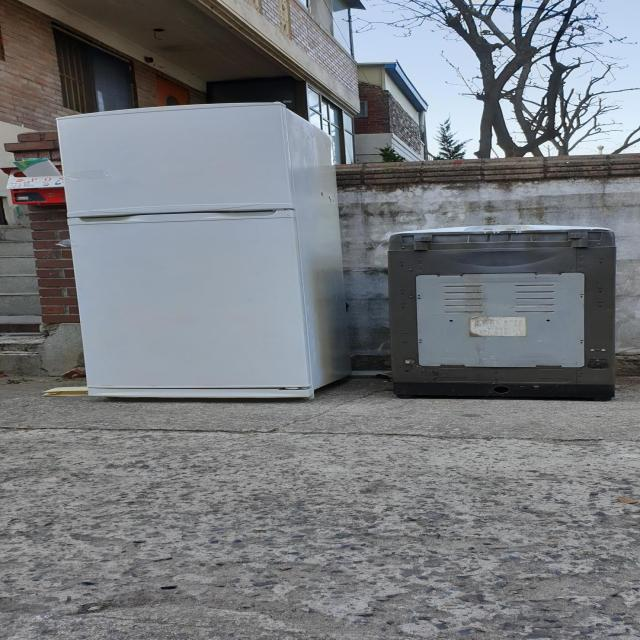refrigerator: (44, 95, 365, 407)
